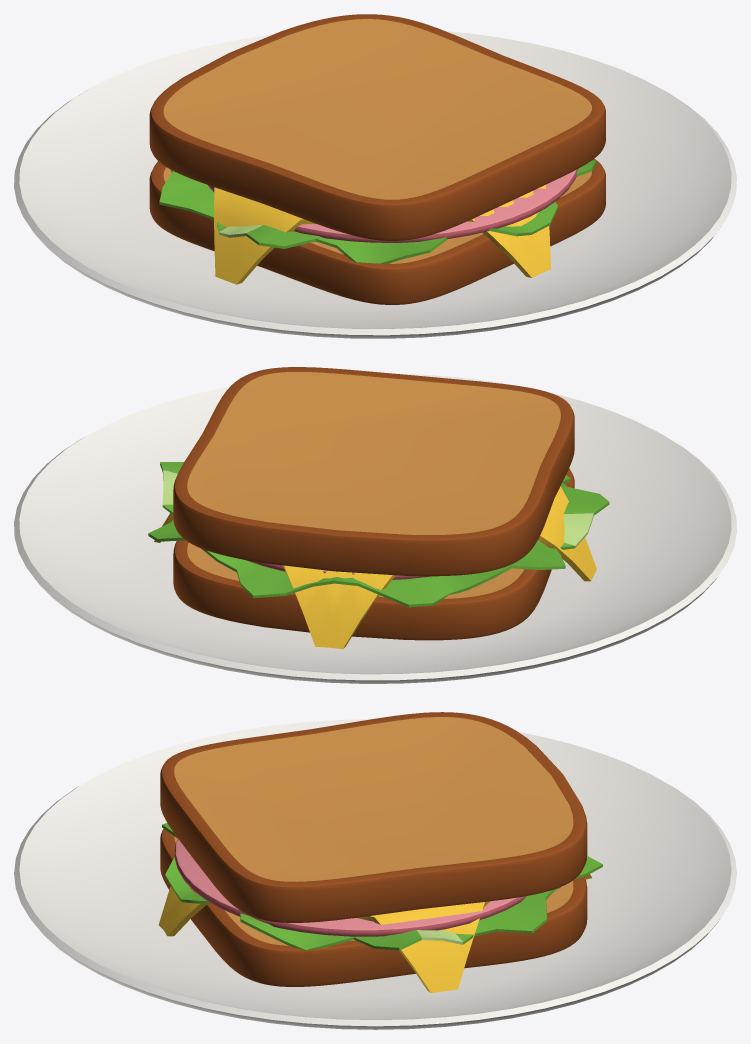
Rendered from Sandwich_Plate.fbx.
The picture shows the model from 3 angles, top to bottom: view 1: azimuth 30°, elevation 25°; view 2: azimuth 150°, elevation 25°; view 3: azimuth 270°, elevation 25°; orthographic projection.
Parts seen in each view (by area): view 1: Sandwich_Plate; view 2: Sandwich_Plate; view 3: Sandwich_Plate.
Boxes of the visible parts, left/top/right/bottom form: Sandwich_Plate: left=14, top=14, right=736, bottom=338; Sandwich_Plate: left=14, top=367, right=736, bottom=683; Sandwich_Plate: left=14, top=712, right=736, bottom=1029.
Size of the model in its own units: 0.22 by 0.044 by 0.22.
